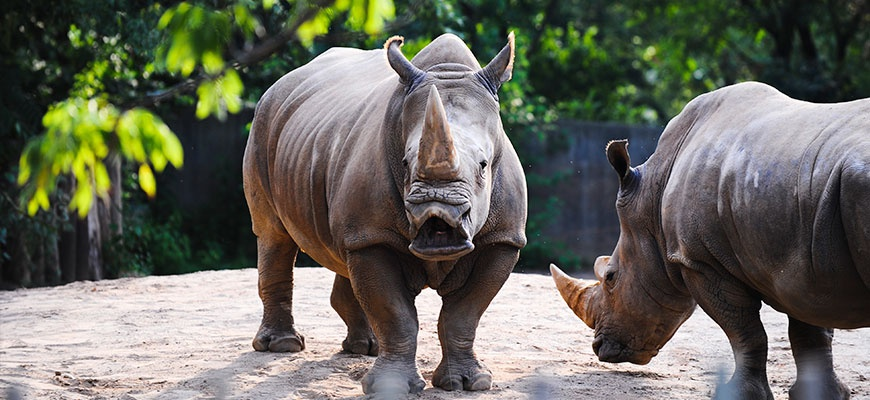rhino: (235, 30, 530, 394), (548, 80, 867, 397)
